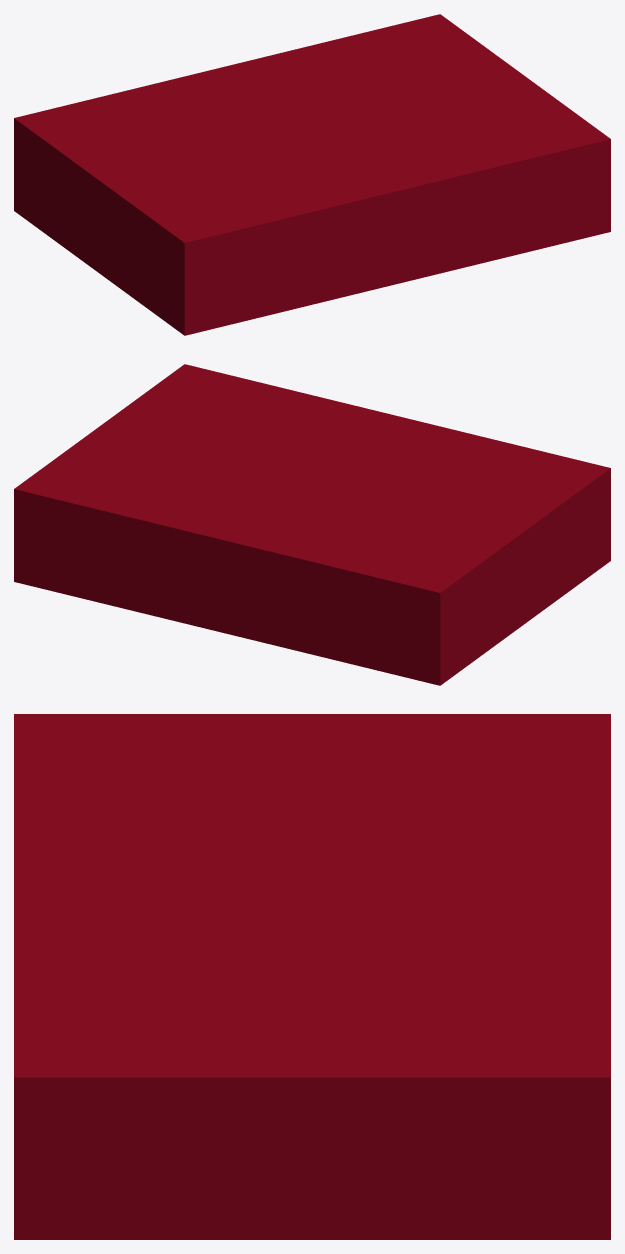
The model's file is cubo.fbx.
3 renders of one model, top to bottom at view 1: azimuth 30°, elevation 25°; view 2: azimuth 150°, elevation 25°; view 3: azimuth 270°, elevation 25°, orthographic. The views are drawn at different scales.
Visible parts, largest first — view 1: root; view 2: root; view 3: root.
Boxes of the visible parts, x1=… form: root: x1=14, y1=14, x2=610, y2=335; root: x1=14, y1=364, x2=610, y2=685; root: x1=14, y1=714, x2=610, y2=1239.
Bounding box in the file's own units: 0.1512 × 0.0315 × 0.1049.
1 material, 1 textured.
